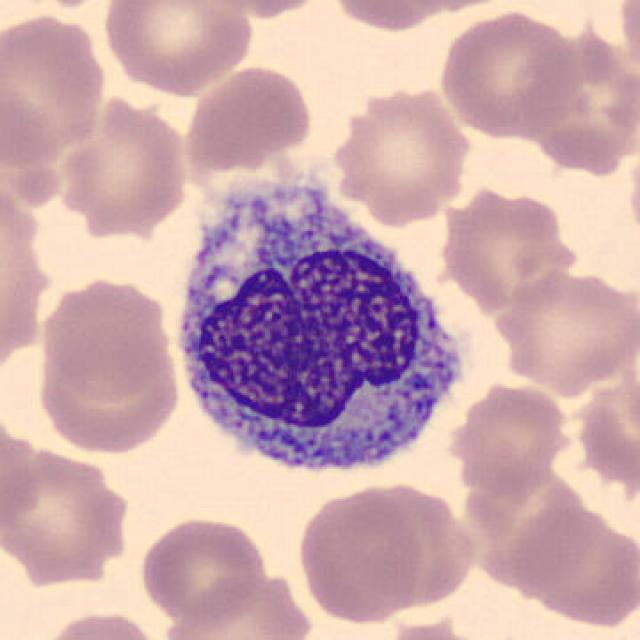Monocyte: (162, 174, 474, 493)
RBC: (327, 81, 473, 226), (52, 90, 194, 236), (436, 7, 583, 139), (491, 264, 636, 396), (34, 270, 178, 402), (293, 483, 425, 626), (34, 330, 185, 455), (2, 446, 129, 592), (0, 9, 110, 167), (433, 184, 569, 306), (525, 34, 640, 178), (514, 503, 636, 631), (98, 0, 258, 97), (442, 378, 572, 496), (137, 511, 270, 626), (180, 62, 316, 171), (153, 569, 316, 640), (0, 202, 47, 363), (0, 420, 44, 543), (325, 0, 487, 33), (36, 608, 166, 640), (350, 0, 535, 18), (188, 0, 334, 19), (380, 617, 498, 640), (615, 0, 640, 88), (626, 132, 640, 263)
